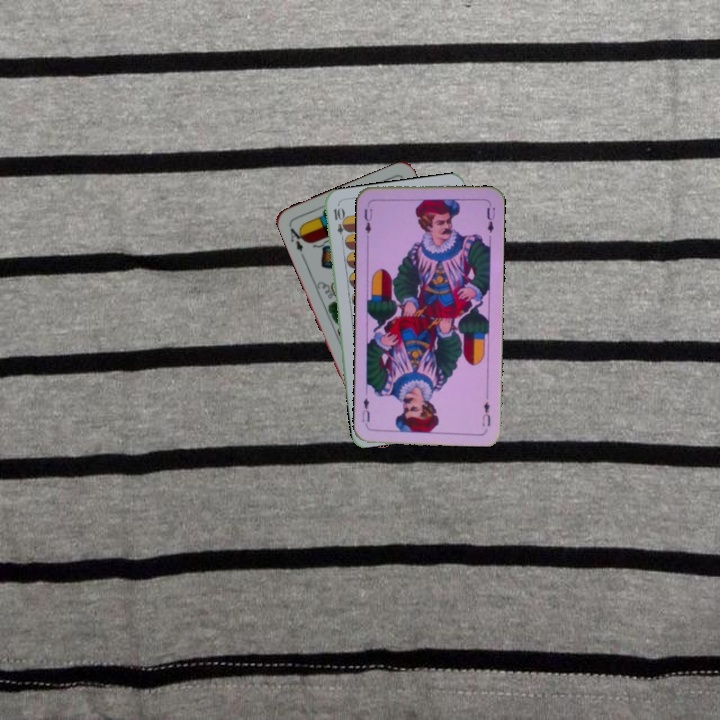E10: (329, 203, 348, 244)
EA: (285, 222, 308, 254)
EU: (478, 397, 493, 429), (360, 205, 374, 236)
